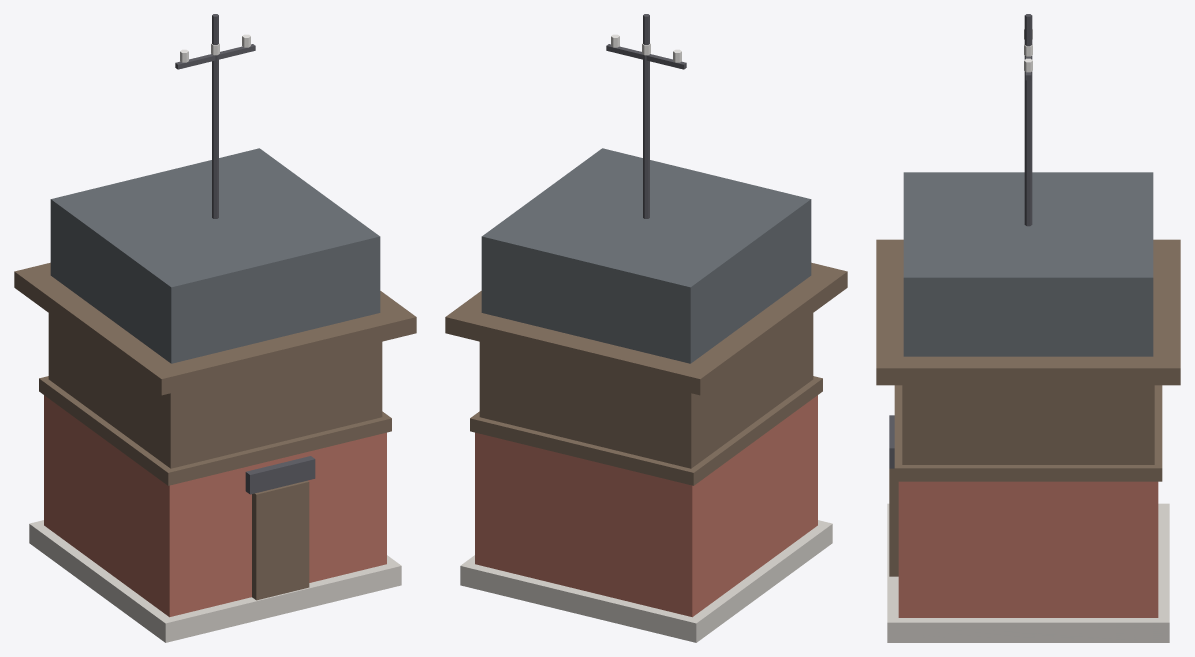
The model's file is civic_telegraph.glb.
3 views of the same model, side by side, from view 1: azimuth 30°, elevation 25°; view 2: azimuth 150°, elevation 25°; view 3: azimuth 270°, elevation 25° (orthographic). The views are drawn at different scales.
Parts seen in each view (by area): view 1: Roof_Main, LowerOffice, UpperStory, Roof_Eaves, Plinth, Waistband, Door, Signboard, AntennaMast, Crossarm; view 2: Roof_Main, LowerOffice, UpperStory, Roof_Eaves, Plinth, Waistband, AntennaMast, Crossarm; view 3: Roof_Main, LowerOffice, UpperStory, Roof_Eaves, Plinth, Waistband, AntennaMast, Door.
Part boxes in pixels (x1=…): Roof_Main: x1=50, y1=148, x2=380, y2=363; LowerOffice: x1=44, y1=395, x2=386, y2=617; UpperStory: x1=48, y1=313, x2=382, y2=468; Roof_Eaves: x1=14, y1=262, x2=416, y2=395; Plinth: x1=29, y1=520, x2=401, y2=642; Waistband: x1=39, y1=376, x2=391, y2=485; Door: x1=252, y1=480, x2=309, y2=600; Signboard: x1=245, y1=456, x2=315, y2=494; AntennaMast: x1=212, y1=14, x2=218, y2=218; Crossarm: x1=175, y1=44, x2=255, y2=69; Roof_Main: x1=481, y1=148, x2=811, y2=363; LowerOffice: x1=475, y1=395, x2=817, y2=617; UpperStory: x1=479, y1=313, x2=813, y2=468; Roof_Eaves: x1=445, y1=262, x2=847, y2=395; Plinth: x1=460, y1=520, x2=832, y2=642; Waistband: x1=470, y1=376, x2=822, y2=485; AntennaMast: x1=643, y1=14, x2=649, y2=218; Crossarm: x1=606, y1=44, x2=686, y2=69; Roof_Main: x1=903, y1=172, x2=1153, y2=356; LowerOffice: x1=898, y1=481, x2=1158, y2=617; UpperStory: x1=902, y1=385, x2=1154, y2=464; Roof_Eaves: x1=876, y1=239, x2=1180, y2=385; Plinth: x1=887, y1=503, x2=1169, y2=642; Waistband: x1=894, y1=385, x2=1162, y2=481; AntennaMast: x1=1024, y1=14, x2=1032, y2=226; Door: x1=889, y1=468, x2=898, y2=576.
Size of the model in its own units: 1.64 by 3.38 by 1.64.
